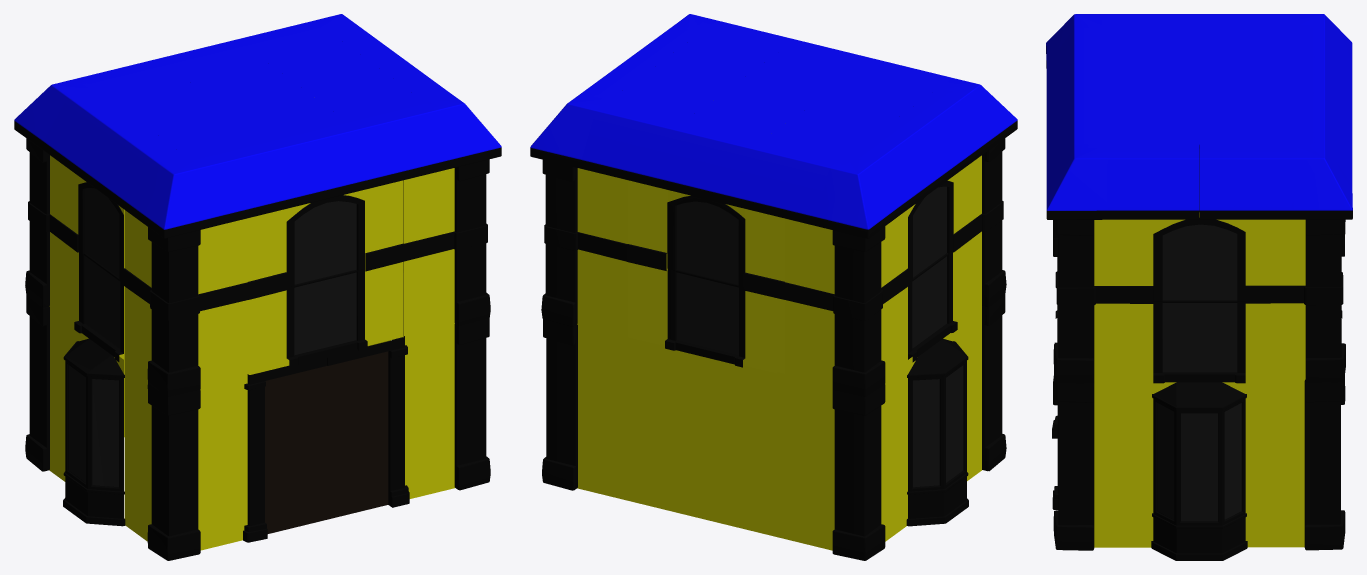
File: Buildiing3.fbx
3 views of the same model, side by side, from view 1: azimuth 30°, elevation 25°; view 2: azimuth 150°, elevation 25°; view 3: azimuth 270°, elevation 25° (orthographic).
Parts seen in each view (by area): view 1: Building3_Model; view 2: Building3_Model; view 3: Building3_Model.
Part boxes in pixels (bbox=[...]): Building3_Model: bbox=[14, 14, 501, 560]; Building3_Model: bbox=[530, 14, 1017, 560]; Building3_Model: bbox=[1046, 14, 1352, 560].
Bounding box in the file's own units: 56.28 × 55.19 × 39.99.
